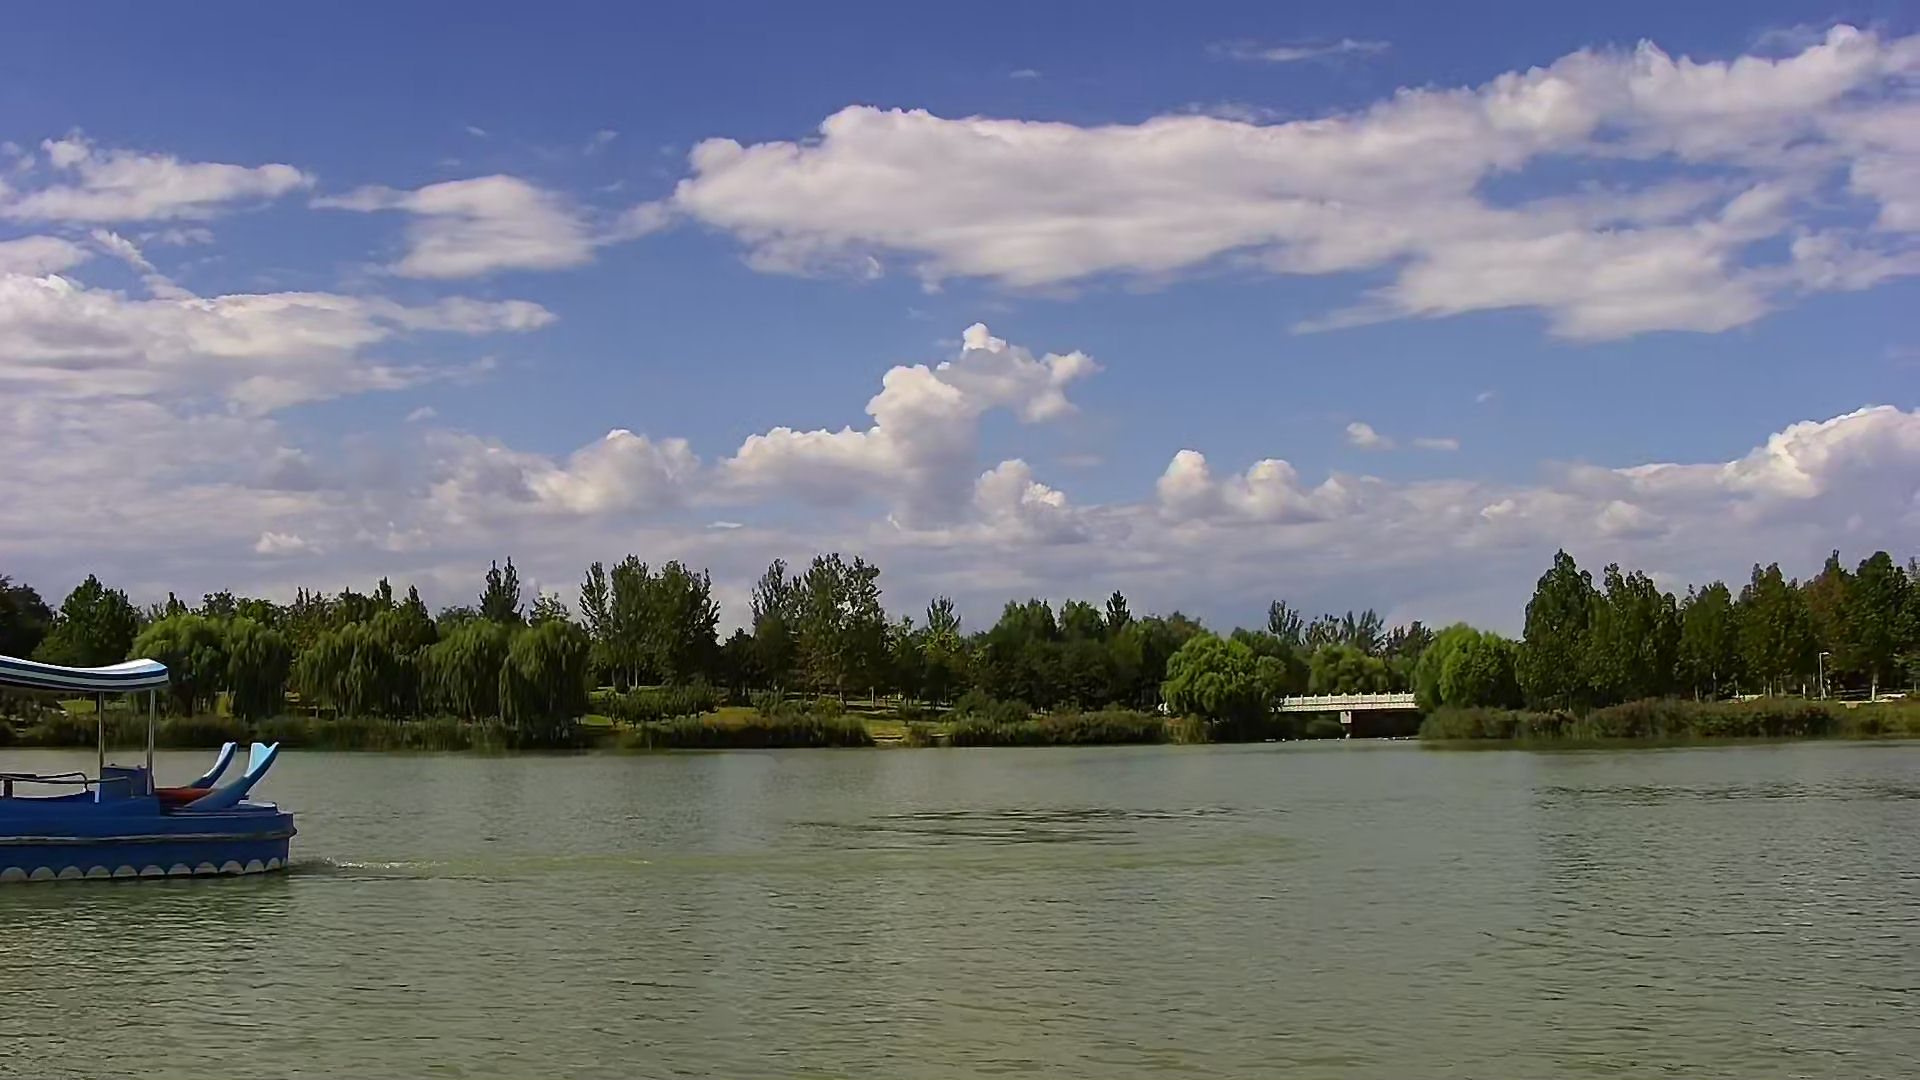boat: (1, 650, 297, 884)
bridge: (1280, 687, 1418, 738)
